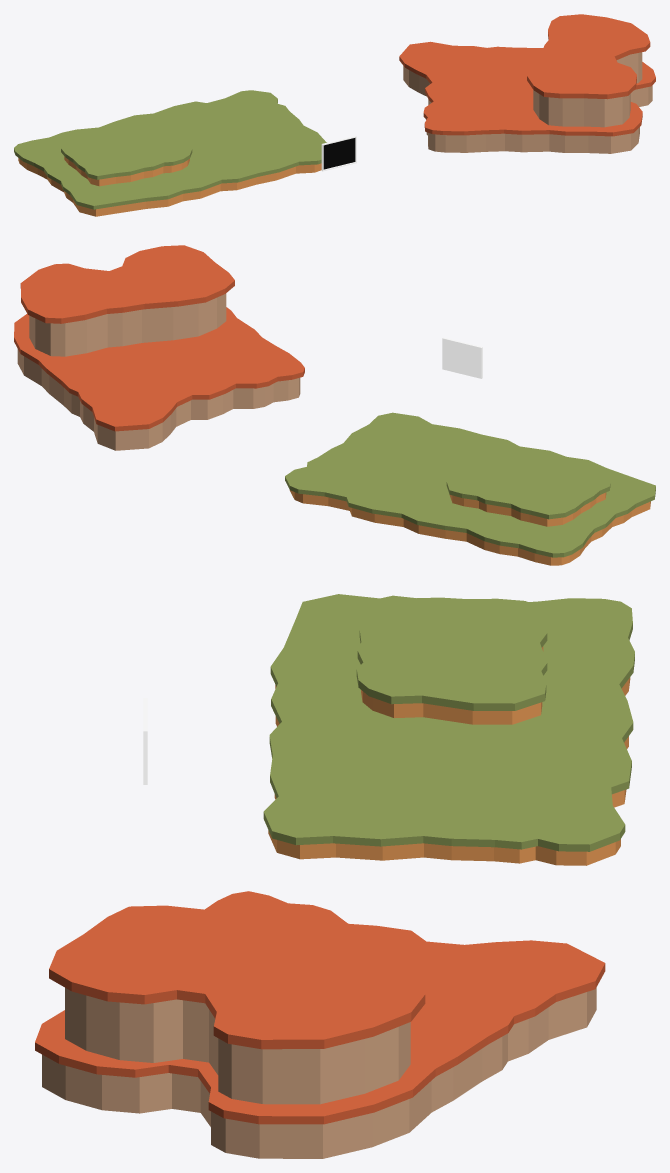
Rendered from map.glb.
3 renders of one model, top to bottom at view 1: azimuth 30°, elevation 25°; view 2: azimuth 150°, elevation 25°; view 3: azimuth 270°, elevation 25°, orthographic. The views are drawn at different scales.
Parts seen in each view (by area): view 1: Left-Top-Island-Top, Right-Top-Island-Top.003, Right-Top-Island-Top.002, Left-Top-Island-Down.002, Right-Top-Island-Top.001, Right-Top-Island-Top.004, Left-Top-Island-Down, BlackBoard, Left-Top-Island-Down.001; view 2: Left-Top-Island-Top, Right-Top-Island-Top.003, Right-Top-Island-Top.002, Left-Top-Island-Down.002, Right-Top-Island-Top.004, Right-Top-Island-Top.001, Left-Top-Island-Down, BlackBoard, Left-Top-Island-Down.001; view 3: Left-Top-Island-Top, Right-Top-Island-Top.003, Right-Top-Island-Top.002, Left-Top-Island-Down.002, Right-Top-Island-Top.004, Right-Top-Island-Top.001, Left-Top-Island-Down, Left-Top-Island-Down.001.
Boxes of the visible parts, x1=… form: Left-Top-Island-Top: x1=14, y1=90, x2=326, y2=209; Right-Top-Island-Top.003: x1=399, y1=41, x2=655, y2=136; Right-Top-Island-Top.002: x1=527, y1=14, x2=650, y2=99; Left-Top-Island-Down.002: x1=61, y1=121, x2=192, y2=179; Right-Top-Island-Top.001: x1=403, y1=66, x2=652, y2=153; Right-Top-Island-Top.004: x1=533, y1=52, x2=642, y2=127; Left-Top-Island-Down: x1=18, y1=158, x2=321, y2=216; BlackBoard: x1=321, y1=135, x2=356, y2=171; Left-Top-Island-Down.001: x1=64, y1=156, x2=189, y2=186; Left-Top-Island-Top: x1=285, y1=412, x2=655, y2=557; Right-Top-Island-Top.003: x1=14, y1=307, x2=304, y2=431; Right-Top-Island-Top.002: x1=20, y1=245, x2=234, y2=323; Left-Top-Island-Down.002: x1=446, y1=454, x2=610, y2=519; Right-Top-Island-Top.004: x1=29, y1=293, x2=226, y2=356; Right-Top-Island-Top.001: x1=17, y1=349, x2=300, y2=450; Left-Top-Island-Down: x1=289, y1=490, x2=650, y2=565; BlackBoard: x1=442, y1=337, x2=482, y2=378; Left-Top-Island-Down.001: x1=449, y1=492, x2=606, y2=526; Left-Top-Island-Top: x1=263, y1=594, x2=634, y2=851; Right-Top-Island-Top.003: x1=35, y1=891, x2=605, y2=1124; Right-Top-Island-Top.002: x1=49, y1=905, x2=425, y2=1049; Left-Top-Island-Down.002: x1=356, y1=595, x2=547, y2=710; Right-Top-Island-Top.004: x1=65, y1=988, x2=410, y2=1104; Right-Top-Island-Top.001: x1=42, y1=987, x2=596, y2=1158; Left-Top-Island-Down: x1=268, y1=677, x2=630, y2=865; Left-Top-Island-Down.001: x1=361, y1=646, x2=543, y2=724.
Size of what is drawn, in the model's own units: 126 by 12.6 by 58.63.
